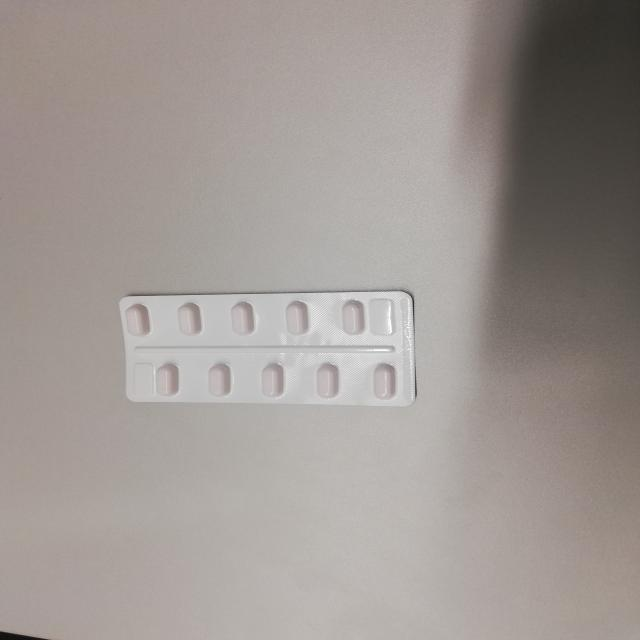Pill: (167, 298, 211, 344), (333, 292, 372, 343), (146, 357, 191, 400), (222, 298, 263, 344), (365, 358, 405, 403), (120, 300, 158, 346), (308, 357, 348, 400), (200, 361, 241, 399), (254, 360, 292, 400), (278, 298, 313, 340)
